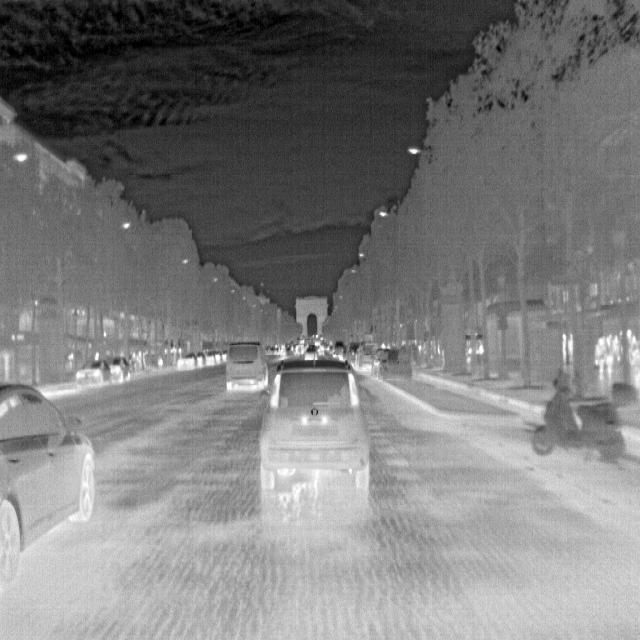Vehicle: (0, 376, 98, 585), (256, 349, 373, 491), (223, 340, 270, 392)
